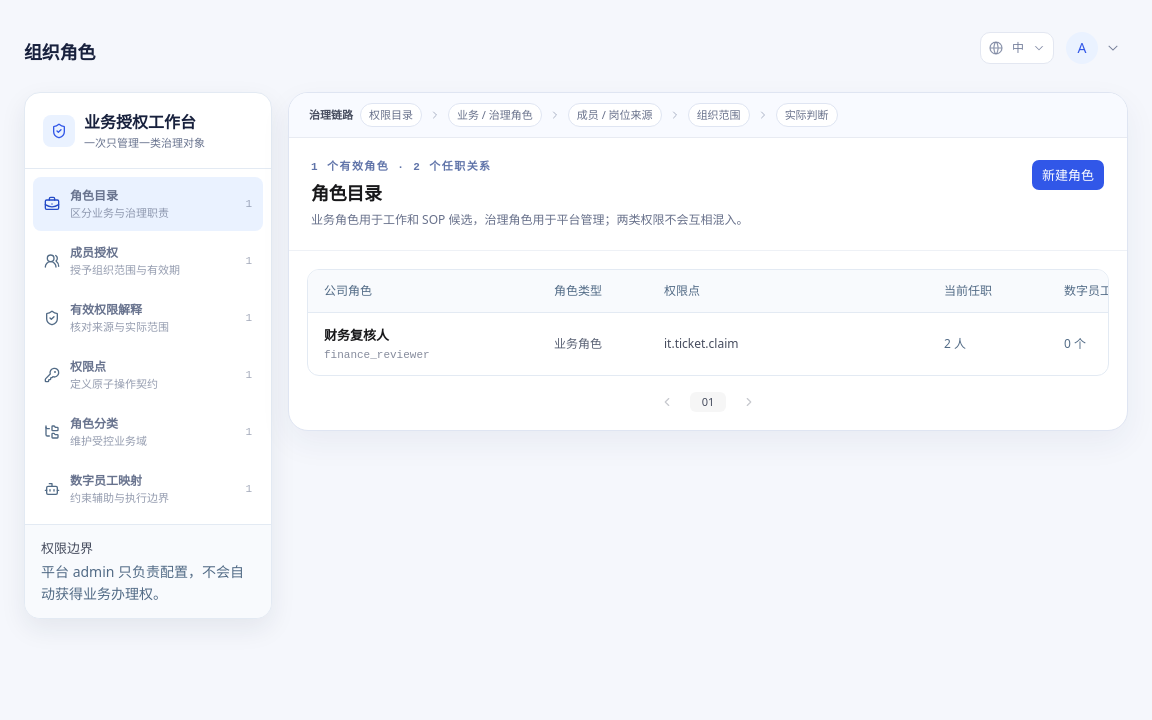
数字员工角色选择排除开放广场资源池
Click the link "数字员工映射 约束辅助与执行边界 1" at [148, 489], box top-left (33, 462), bottom-right (263, 516)
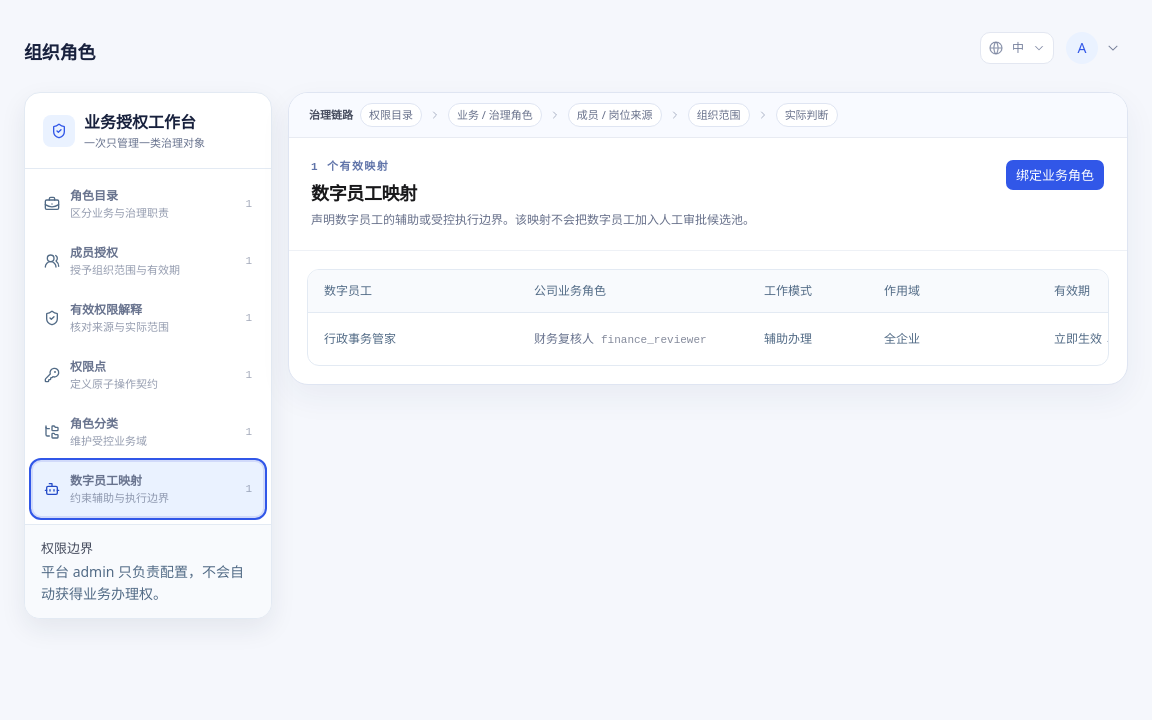
Click the button "绑定业务角色" at [1055, 175], box top-left (1005, 159), bottom-right (1105, 191)
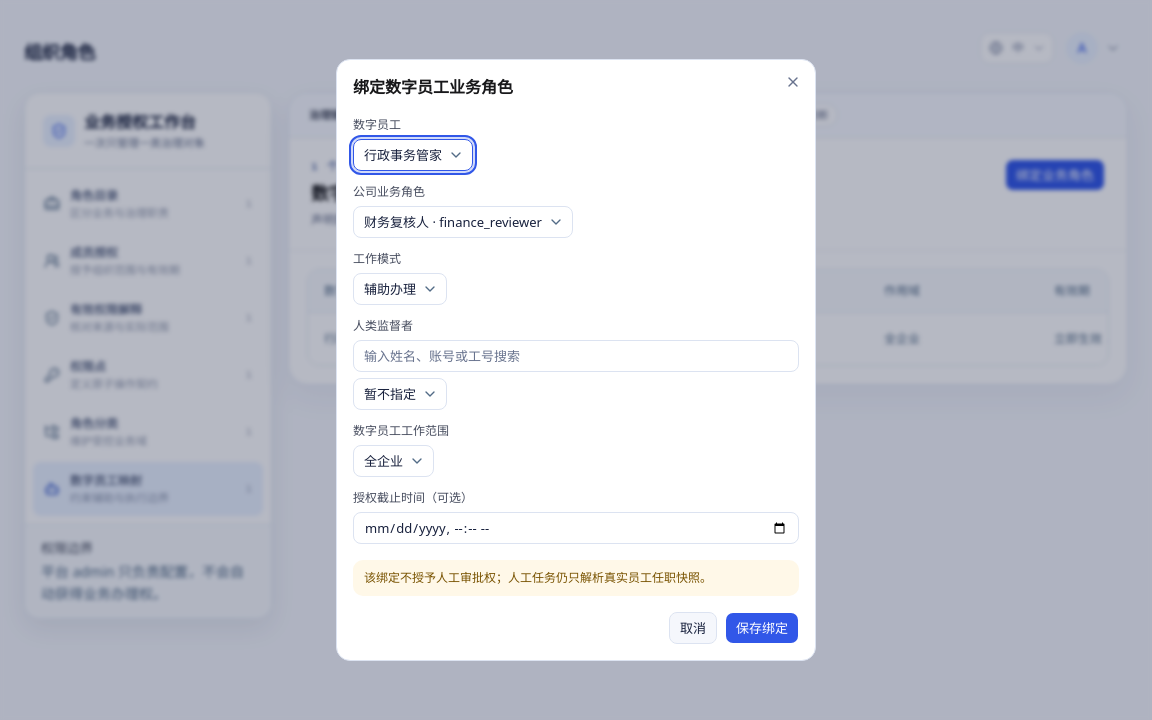
Click the dropdown labelled "行政事务管家" at [413, 155], box top-left (353, 139), bottom-right (473, 171)
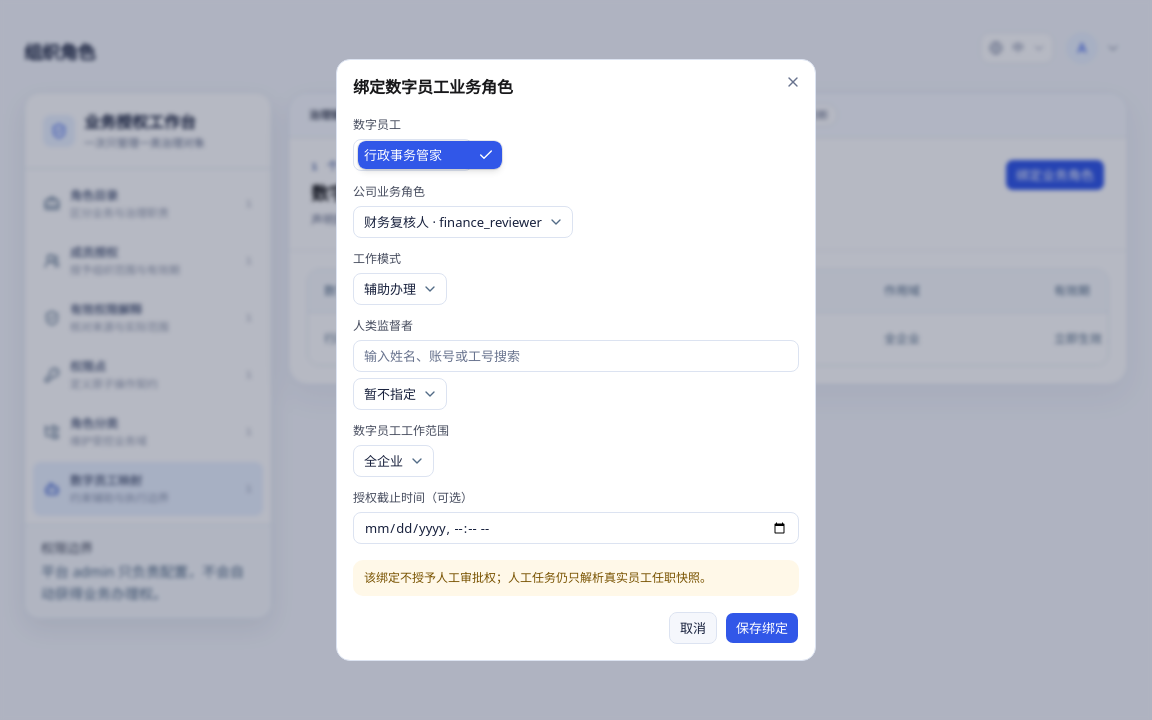
Now the option "行政事务管家" is shown, box top-left (358, 141), bottom-right (502, 169)
